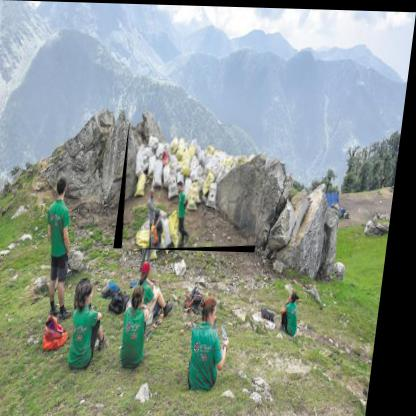Garbage: (121, 122, 275, 253)
